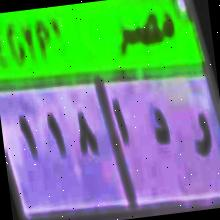1: (15, 102, 42, 170), (45, 105, 72, 166)
8: (73, 109, 100, 165)
alif: (109, 93, 135, 149)
daal: (145, 102, 175, 152)
raa: (190, 104, 215, 169)
